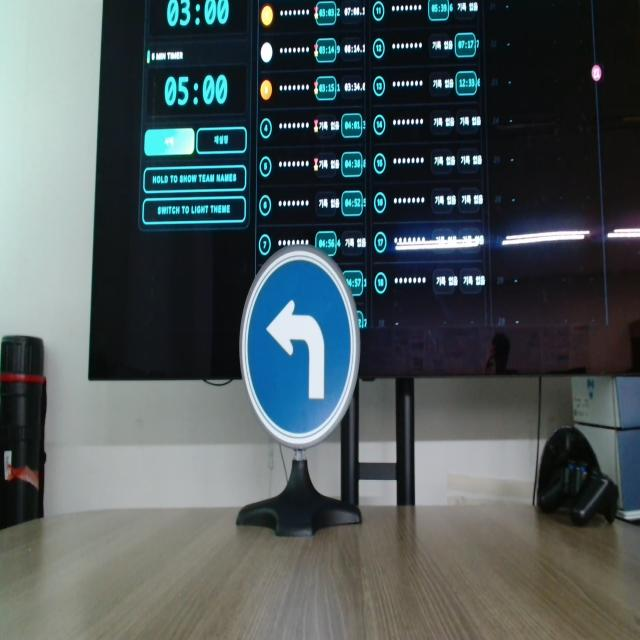left_direction: (232, 236, 386, 470)
